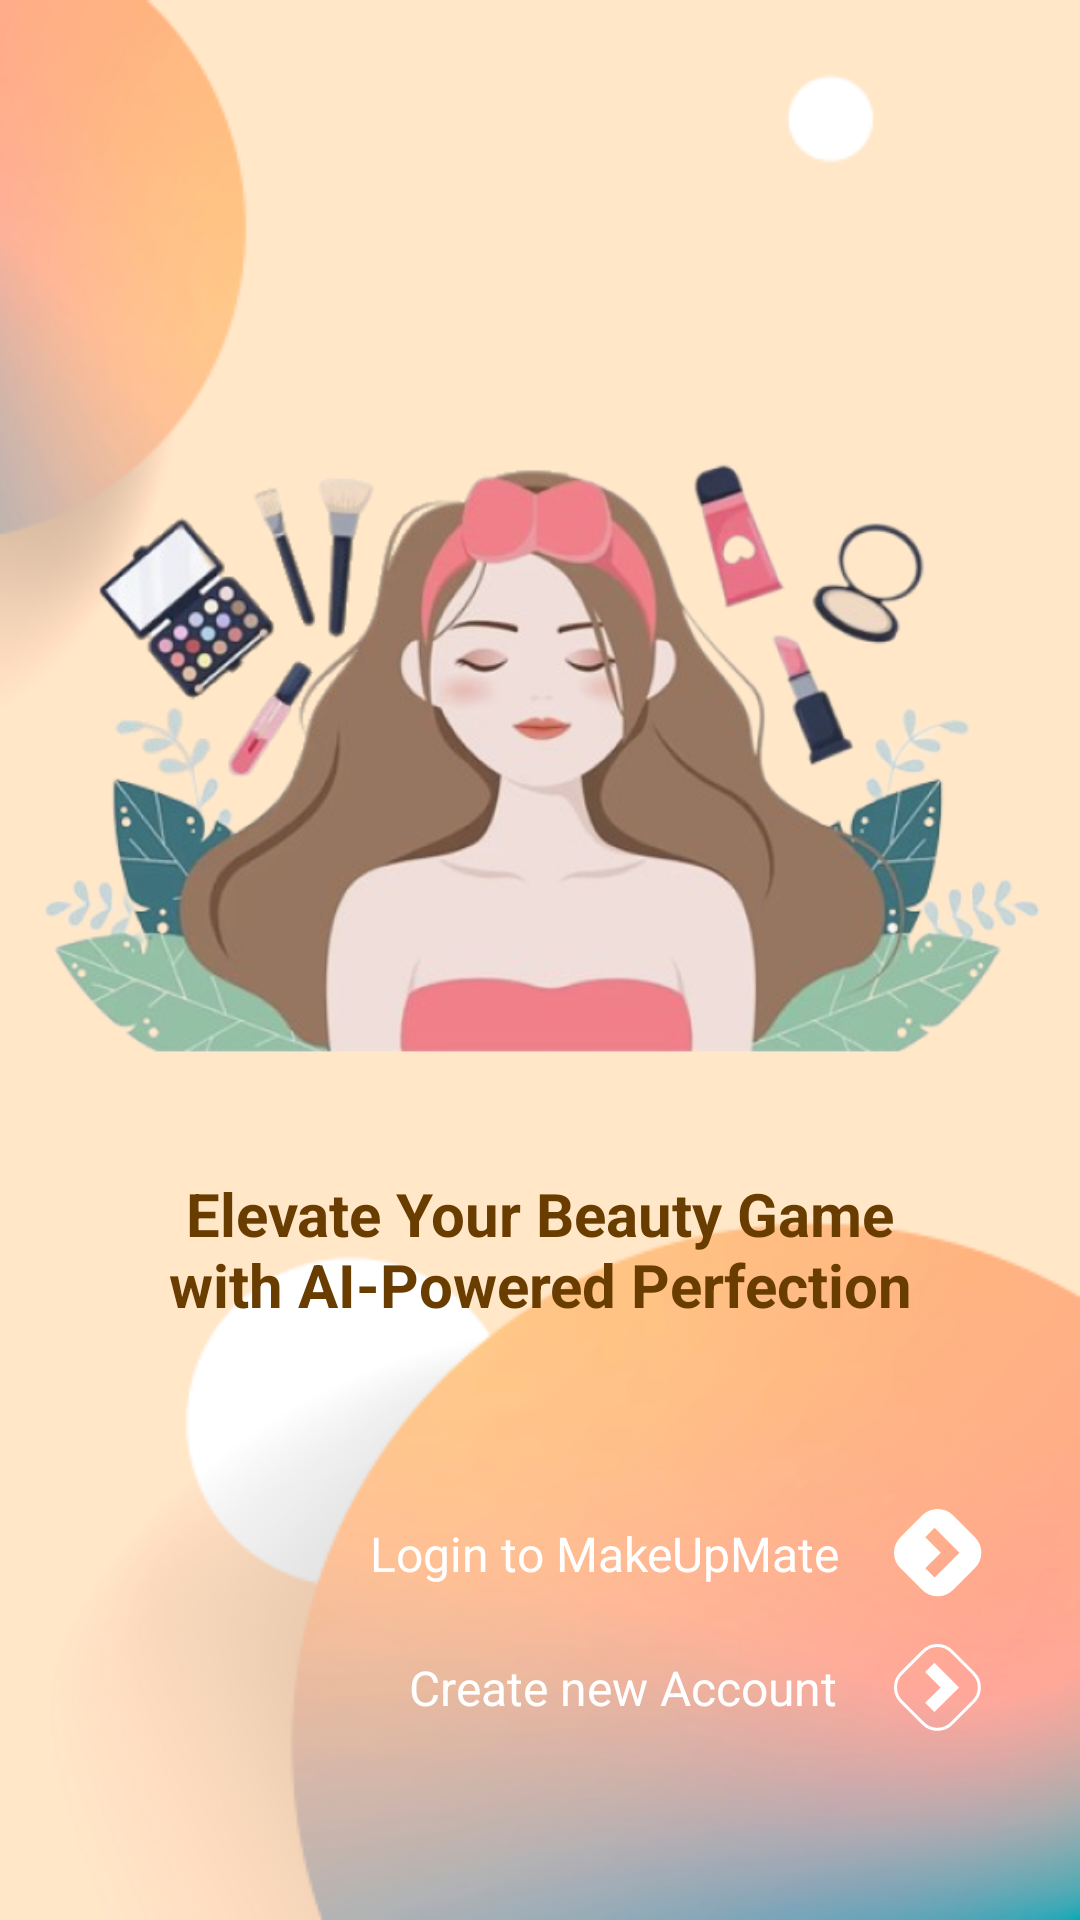

Icon bounding boxes for this 1080×1920 phone screenshot, format (x1, y1, x2, y2):
login arrow: (894, 1509, 982, 1597)
signup arrow: (894, 1644, 981, 1731)
